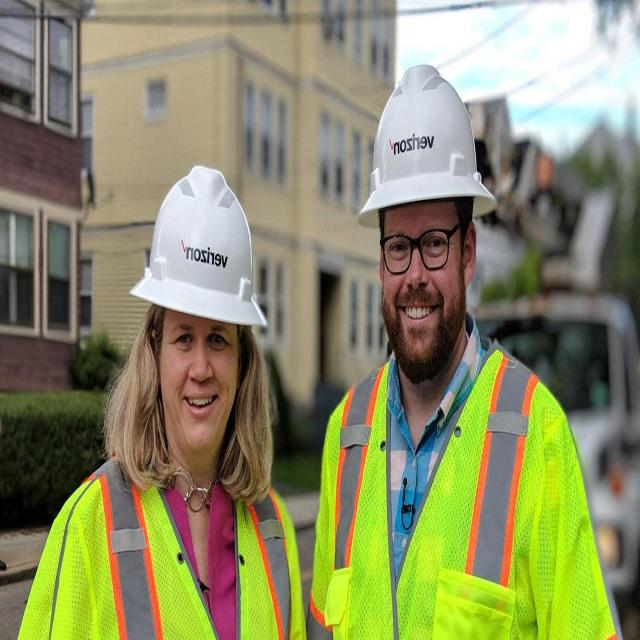Reflective-Jacket: (309, 354, 617, 636), (25, 441, 308, 640)
Safety-Helmet: (128, 158, 268, 332), (356, 60, 494, 228)
